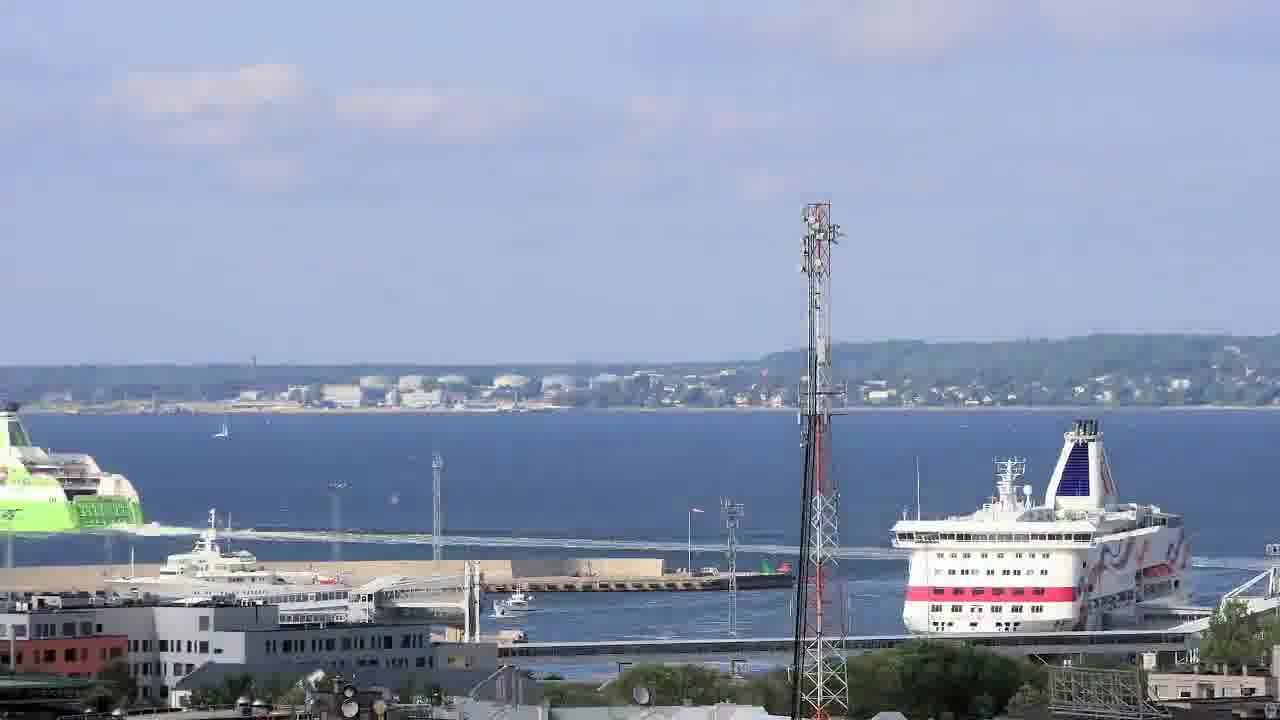type-0: (485, 569, 544, 623)
type-2: (197, 412, 243, 456)
type-3: (868, 415, 1225, 638), (84, 511, 353, 609), (0, 399, 148, 554)
